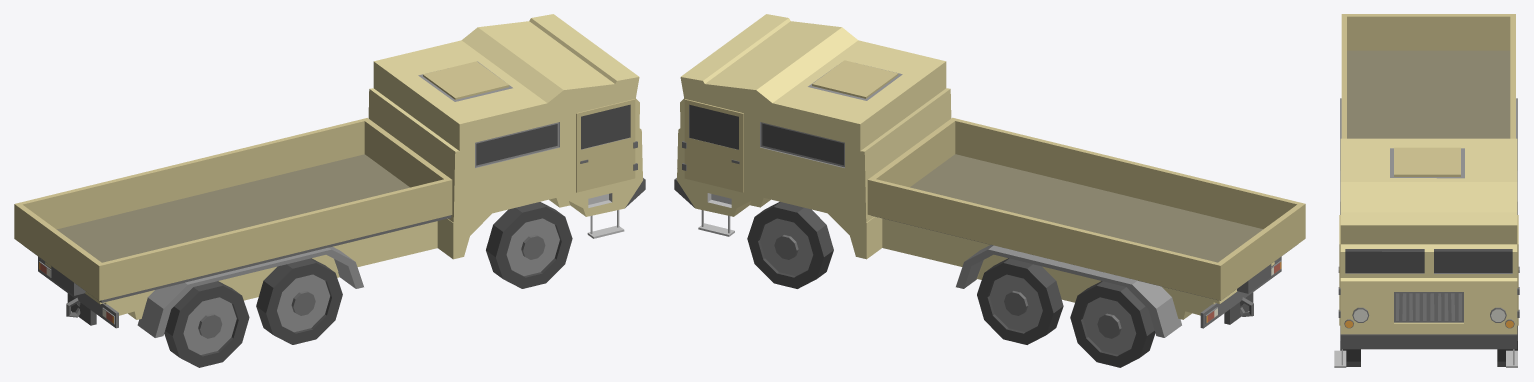
Rendered from kar18.fbx.
3 views of the same model, side by side, from view 1: azimuth 30°, elevation 25°; view 2: azimuth 150°, elevation 25°; view 3: azimuth 270°, elevation 25° (orthographic). The views are drawn at different scales.
Visible parts, largest first — view 1: Boole_3, Cylinder_4, Cylinder_5, Cylinder_6; view 2: Boole_3, Cylinder_1, Cylinder_2, Cylinder_3; view 3: Boole_3, Cylinder_4, Cylinder_1.
Boxes of the visible parts, x1,y1,x2,y2 form: Boole_3: [14, 14, 645, 337]; Cylinder_4: [486, 202, 572, 288]; Cylinder_5: [256, 258, 342, 344]; Cylinder_6: [164, 281, 249, 367]; Boole_3: [674, 14, 1305, 337]; Cylinder_1: [747, 202, 833, 288]; Cylinder_2: [977, 258, 1063, 344]; Cylinder_3: [1070, 281, 1155, 367]; Boole_3: [1334, 14, 1519, 367]; Cylinder_4: [1340, 326, 1360, 366]; Cylinder_1: [1497, 325, 1517, 366].
Size of the model in its own units: 806 by 266 by 231.
